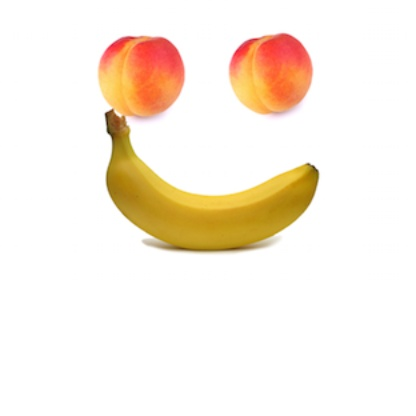chuoi: (88, 122, 331, 279)
